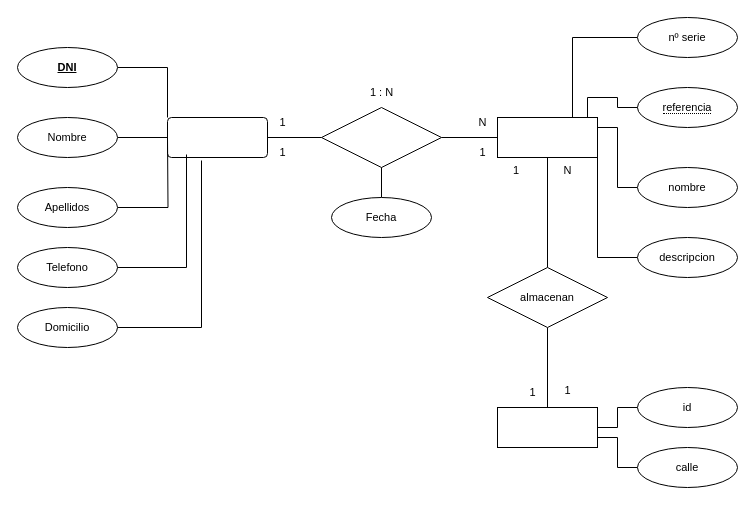
Some shapes in this 755 by 505 pixel diagram are drawn without their labels. Each missing label, with the centre of its shape:
Alamcen: (547,427)
Articulos: (547,137)
Clientes: (217,137)
Compran: (381,137)
